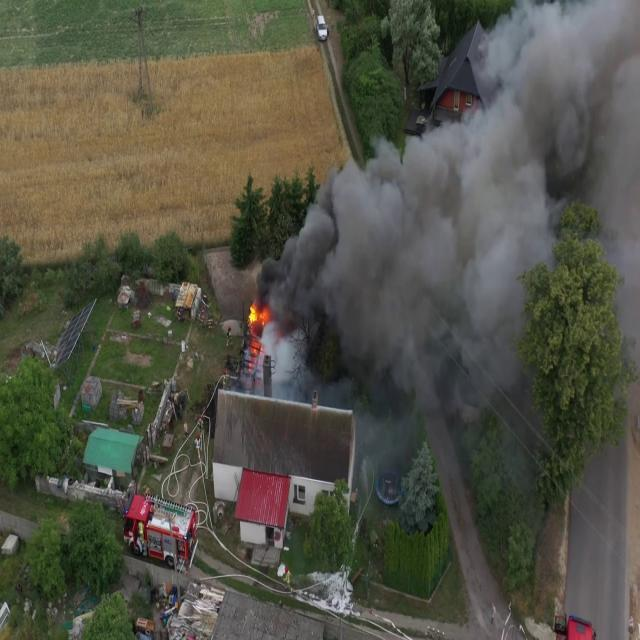Fire: (245, 296, 272, 351)
Smoke: (277, 2, 640, 430)
